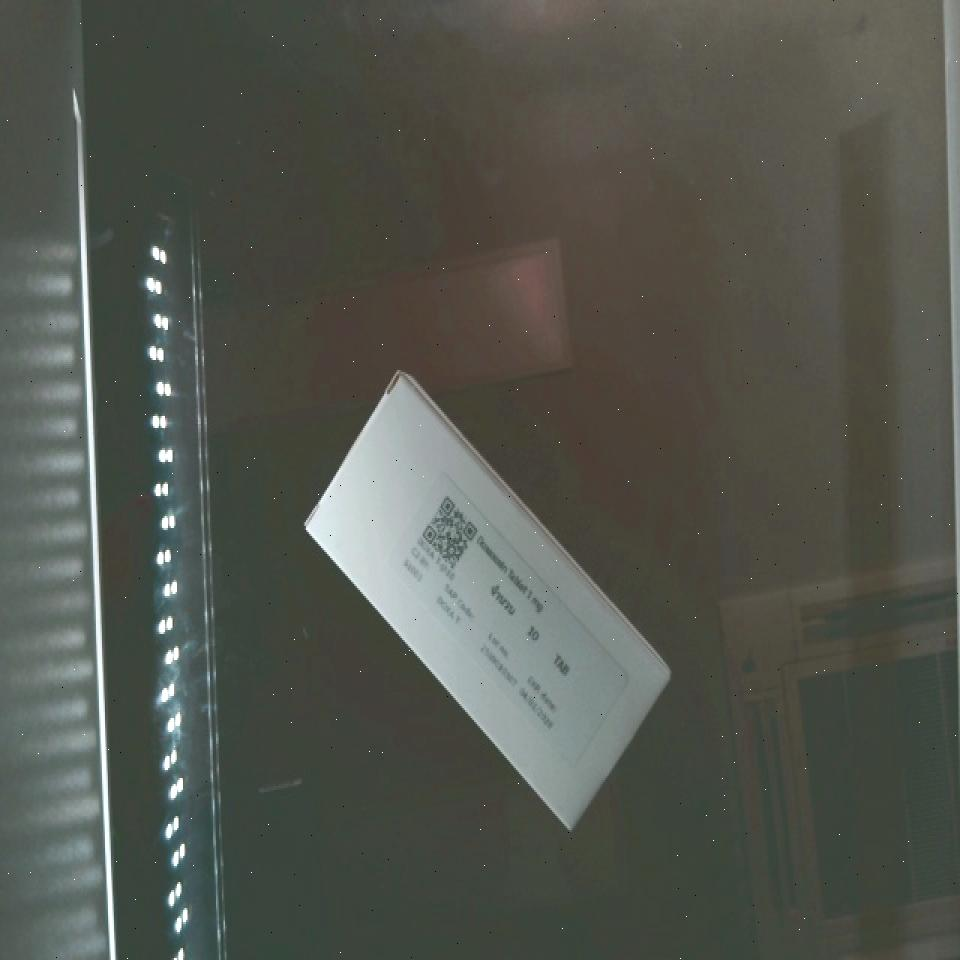medicine_box: (266, 373, 702, 830)
qr_code: (394, 476, 502, 589)
